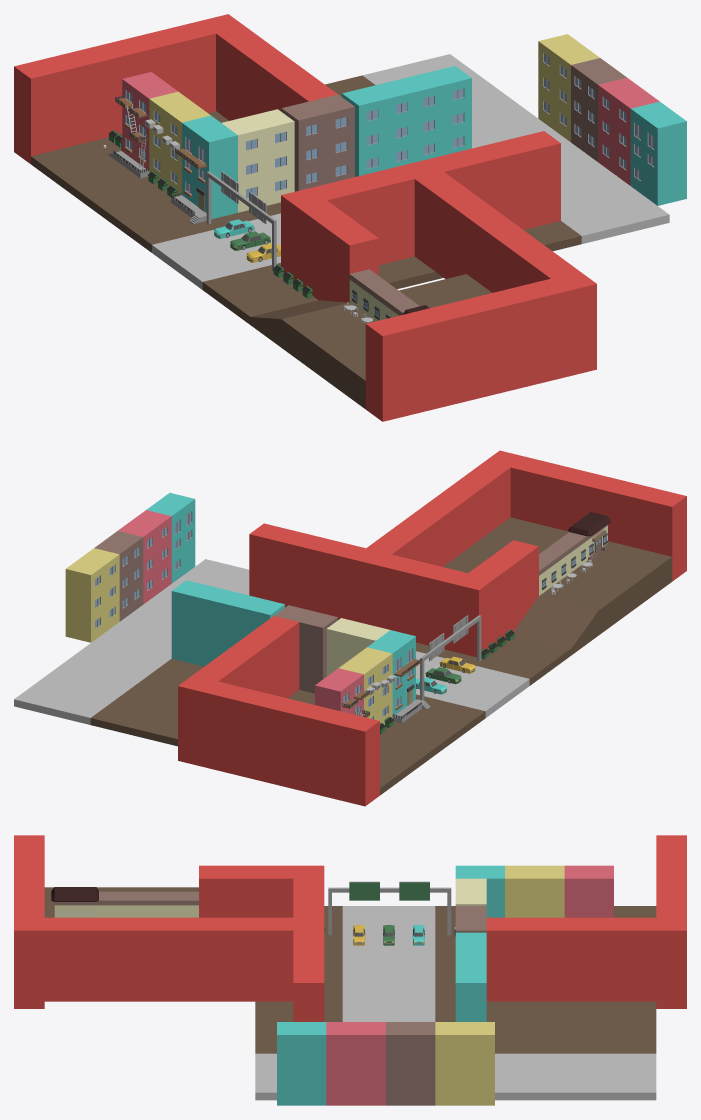
Rendered from BLOCKOUT_NOTFINAL1.fbx.
The picture shows the model from 3 angles, top to bottom: view 1: azimuth 30°, elevation 25°; view 2: azimuth 150°, elevation 25°; view 3: azimuth 270°, elevation 25°; orthographic projection. The views are drawn at different scales.
Parts seen in each view (by area): view 1: Wall_4, Wall_6, Wall_2, Wall_3, Main_Road_1, Ground_1, Slope, Wall_1, Wall_5, Ground_2, Apartment_05, Apartment_06 (+12 smaller); view 2: Wall_6, Wall_2, Slope, Wall_4, Main_Road_1, Ground_1, Wall_3, Wall_1, Wall_5, Apartment_10, Apartment_11, Main_Road_2 (+13 smaller); view 3: Wall_3, Wall_5, Ground_1, Main_Road_2, Main_Road_1, Wall_1, Wall_4, Wall_6, Apartment_08, Apartment_10, Wall_2, Apartment_07 (+15 smaller).
Boxes of the visible parts, left/top/right/bottom form: Wall_4: left=365, top=271, right=596, bottom=421; Wall_6: left=14, top=14, right=244, bottom=163; Wall_2: left=310, top=131, right=560, bottom=264; Wall_3: left=414, top=172, right=579, bottom=292; Main_Road_1: left=362, top=54, right=669, bottom=243; Ground_1: left=31, top=75, right=375, bottom=252; Slope: left=250, top=274, right=491, bottom=408; Wall_1: left=281, top=188, right=378, bottom=302; Wall_5: left=216, top=26, right=337, bottom=120; Ground_2: left=202, top=221, right=581, bottom=324; Apartment_05: left=281, top=94, right=354, bottom=191; Apartment_06: left=342, top=79, right=415, bottom=176; Wall_6: left=178, top=675, right=379, bottom=806; Wall_2: left=249, top=523, right=467, bottom=651; Slope: left=443, top=517, right=672, bottom=654; Wall_4: left=485, top=450, right=686, bottom=581; Main_Road_1: left=14, top=559, right=249, bottom=724; Ground_1: left=90, top=658, right=485, bottom=795; Wall_3: left=366, top=461, right=510, bottom=566; Wall_1: left=453, top=540, right=538, bottom=657; Wall_5: left=193, top=616, right=299, bottom=698; Apartment_10: left=65, top=548, right=119, bottom=642; Apartment_11: left=171, top=580, right=235, bottom=666; Main_Road_2: left=416, top=651, right=529, bottom=717; Wall_3: left=44, top=917, right=293, bottom=1001; Wall_5: left=486, top=917, right=656, bottom=1001; Ground_1: left=435, top=906, right=656, bottom=1053; Main_Road_2: left=342, top=906, right=435, bottom=1021; Main_Road_1: left=255, top=1053, right=656, bottom=1100; Wall_1: left=199, top=865, right=324, bottom=917; Wall_4: left=14, top=835, right=44, bottom=1008; Wall_6: left=656, top=835, right=686, bottom=1008; Apartment_08: left=326, top=1022, right=385, bottom=1105; Apartment_10: left=435, top=1022, right=494, bottom=1105; Wall_2: left=293, top=878, right=324, bottom=1021; Apartment_07: left=277, top=1022, right=326, bottom=1105.
Bounding box in the file's own units: 46001 × 65500 × 8400.
